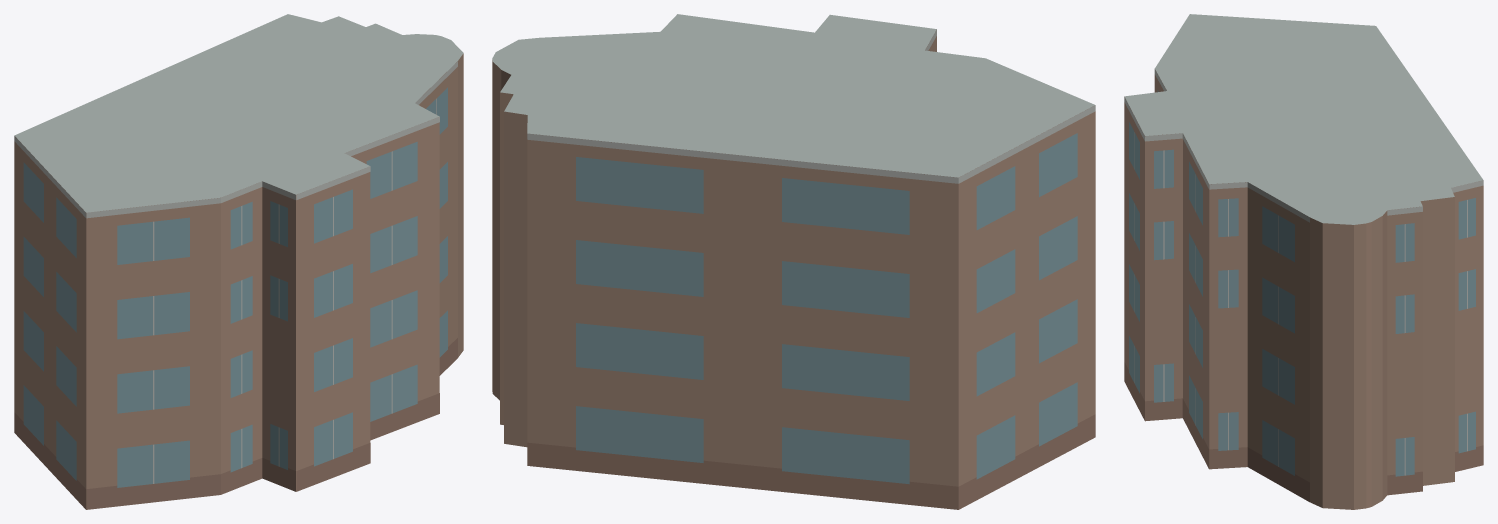
The model's file is survey-upis-32676628.glb.
The picture shows the model from 3 angles, left to right: view 1: azimuth 30°, elevation 25°; view 2: azimuth 150°, elevation 25°; view 3: azimuth 270°, elevation 25°; orthographic projection. The views are drawn at different scales.
Visible parts, largest first — view 1: survey-upis-32676628.tmp; view 2: survey-upis-32676628.tmp; view 3: survey-upis-32676628.tmp.
Part boxes in pixels (<box>): survey-upis-32676628.tmp: <box>14,14,463,509</box>; survey-upis-32676628.tmp: <box>492,14,1095,509</box>; survey-upis-32676628.tmp: <box>1124,14,1483,509</box>.
Bounding box in the file's own units: 20.48 × 12.9 × 14.74.
